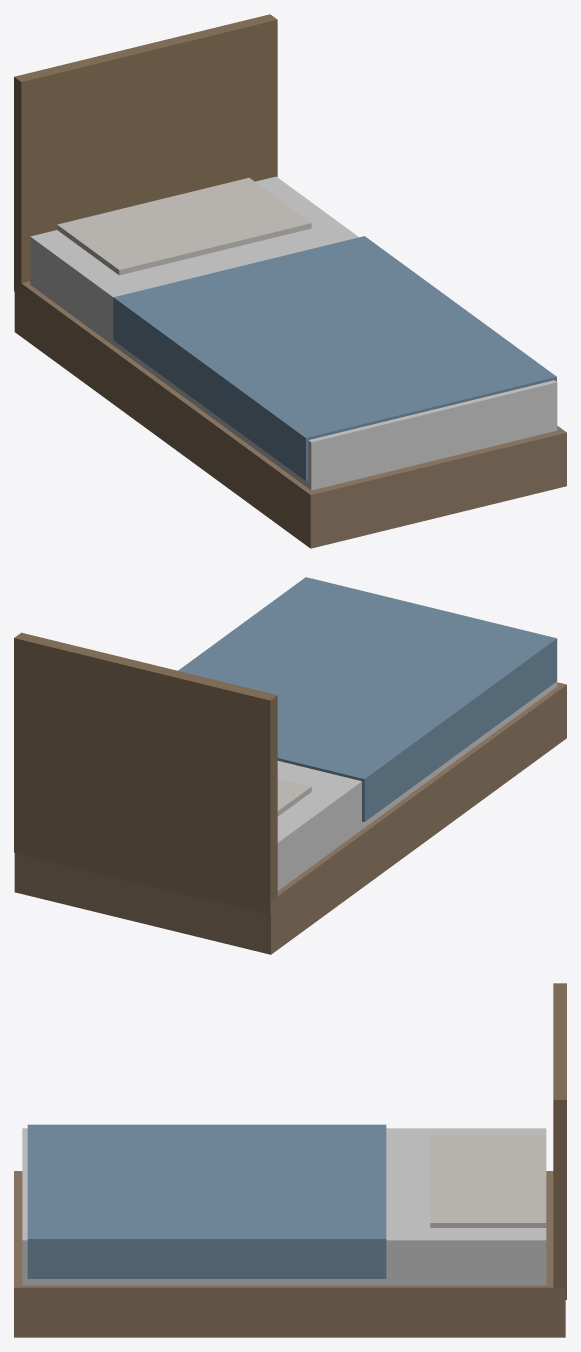
File: bedSingle.glb
The picture shows the model from 3 angles, top to bottom: view 1: azimuth 30°, elevation 25°; view 2: azimuth 150°, elevation 25°; view 3: azimuth 270°, elevation 25°; orthographic projection. The views are drawn at different scales.
Bounding box in the file's own units: 1 × 0.95 × 2.
